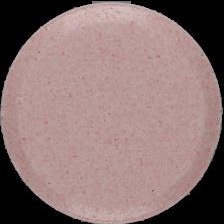63187-051: (0, 0, 224, 224)
